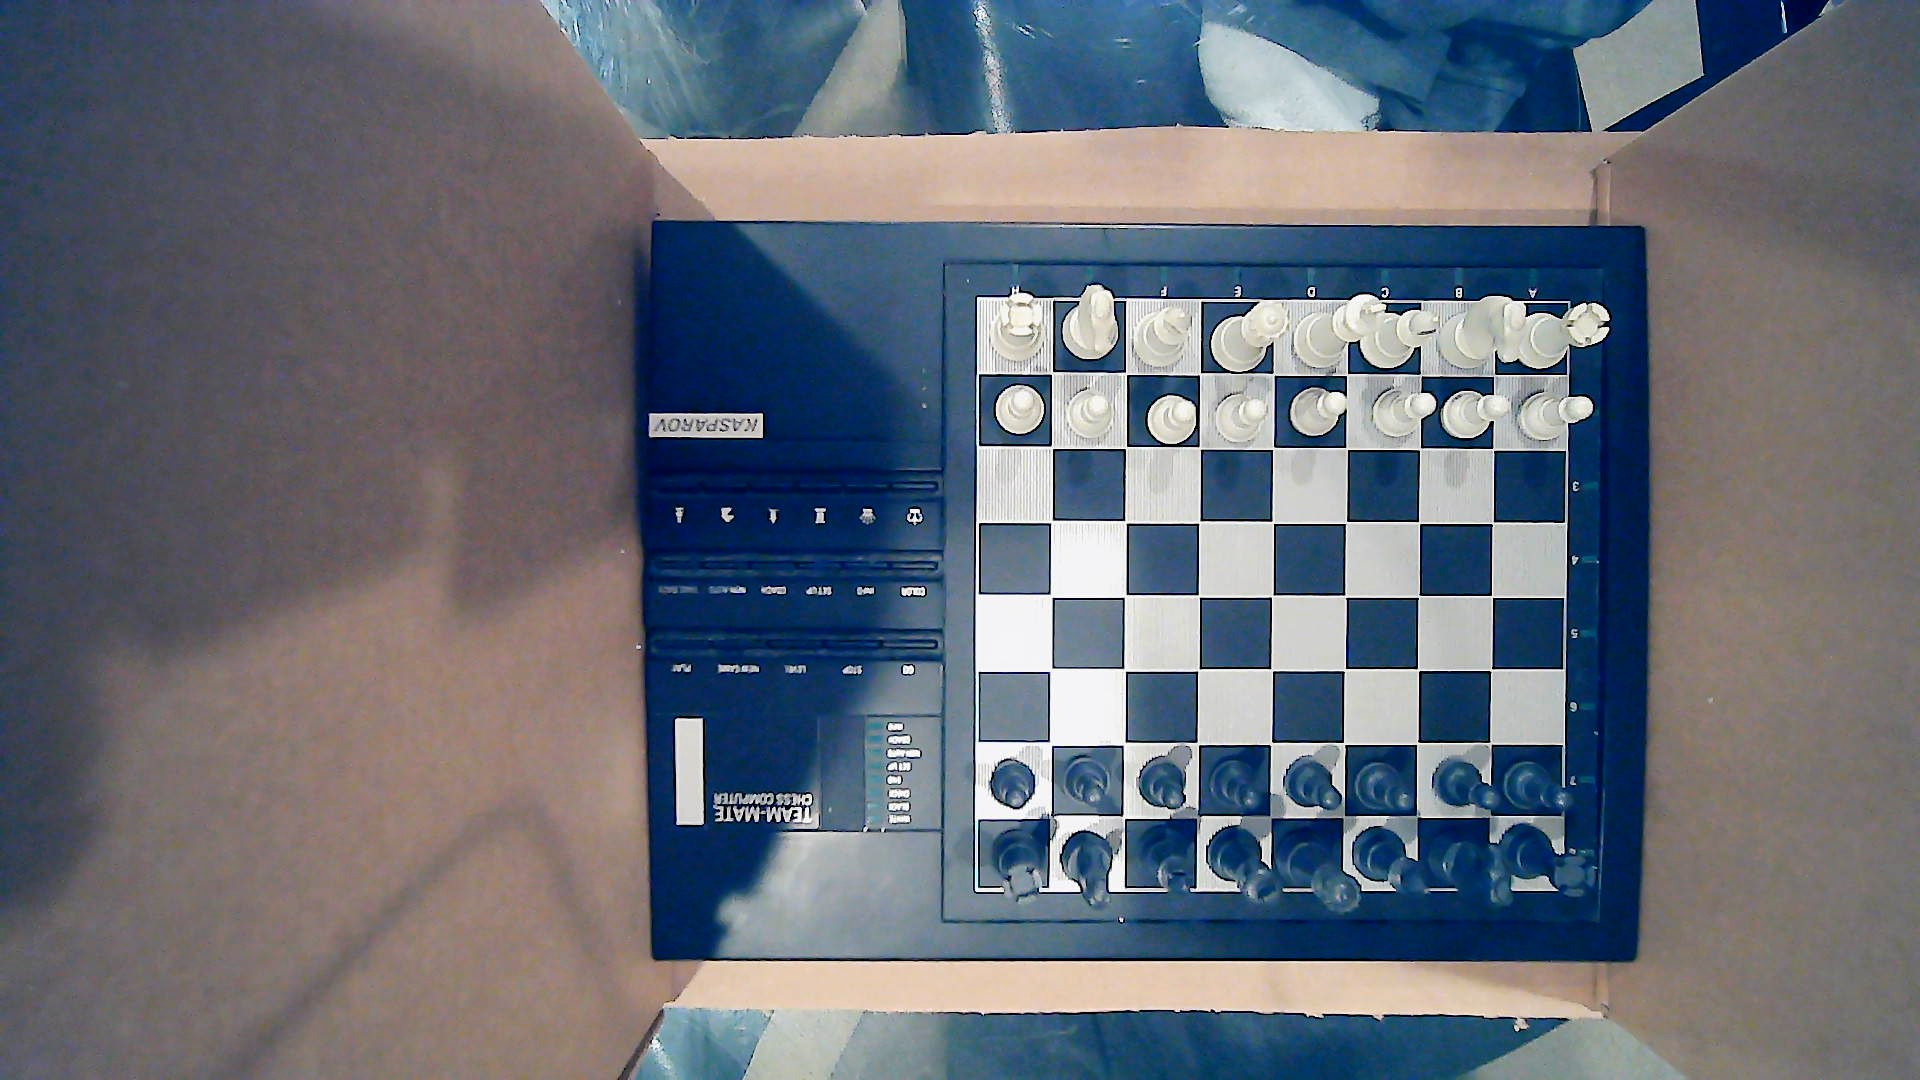bbishop: (1352, 828, 1429, 899), (1133, 828, 1196, 897)
bking: (1205, 825, 1284, 910)
bknight: (1422, 825, 1514, 909), (1060, 829, 1114, 913)
bpawn: (1503, 761, 1575, 816), (1432, 760, 1502, 814), (1209, 757, 1267, 814), (1283, 760, 1344, 814), (1356, 762, 1416, 815), (1059, 753, 1112, 807), (1137, 756, 1188, 808), (988, 760, 1036, 811)
bqueen: (1274, 829, 1364, 915)
brook: (1502, 824, 1596, 899), (992, 831, 1046, 909)
wbishop: (1360, 307, 1441, 371), (1131, 306, 1193, 371)
wking: (1294, 291, 1387, 371)
wknight: (1437, 294, 1526, 372), (1062, 282, 1120, 363)
wpawn: (1515, 390, 1596, 440), (1367, 388, 1437, 439), (1440, 389, 1511, 439), (1212, 392, 1273, 444), (993, 382, 1048, 436), (1142, 394, 1201, 444), (1290, 386, 1346, 436), (1064, 389, 1116, 440)
wqueen: (1209, 301, 1291, 375)
wrook: (1520, 301, 1610, 369), (986, 291, 1048, 367)
